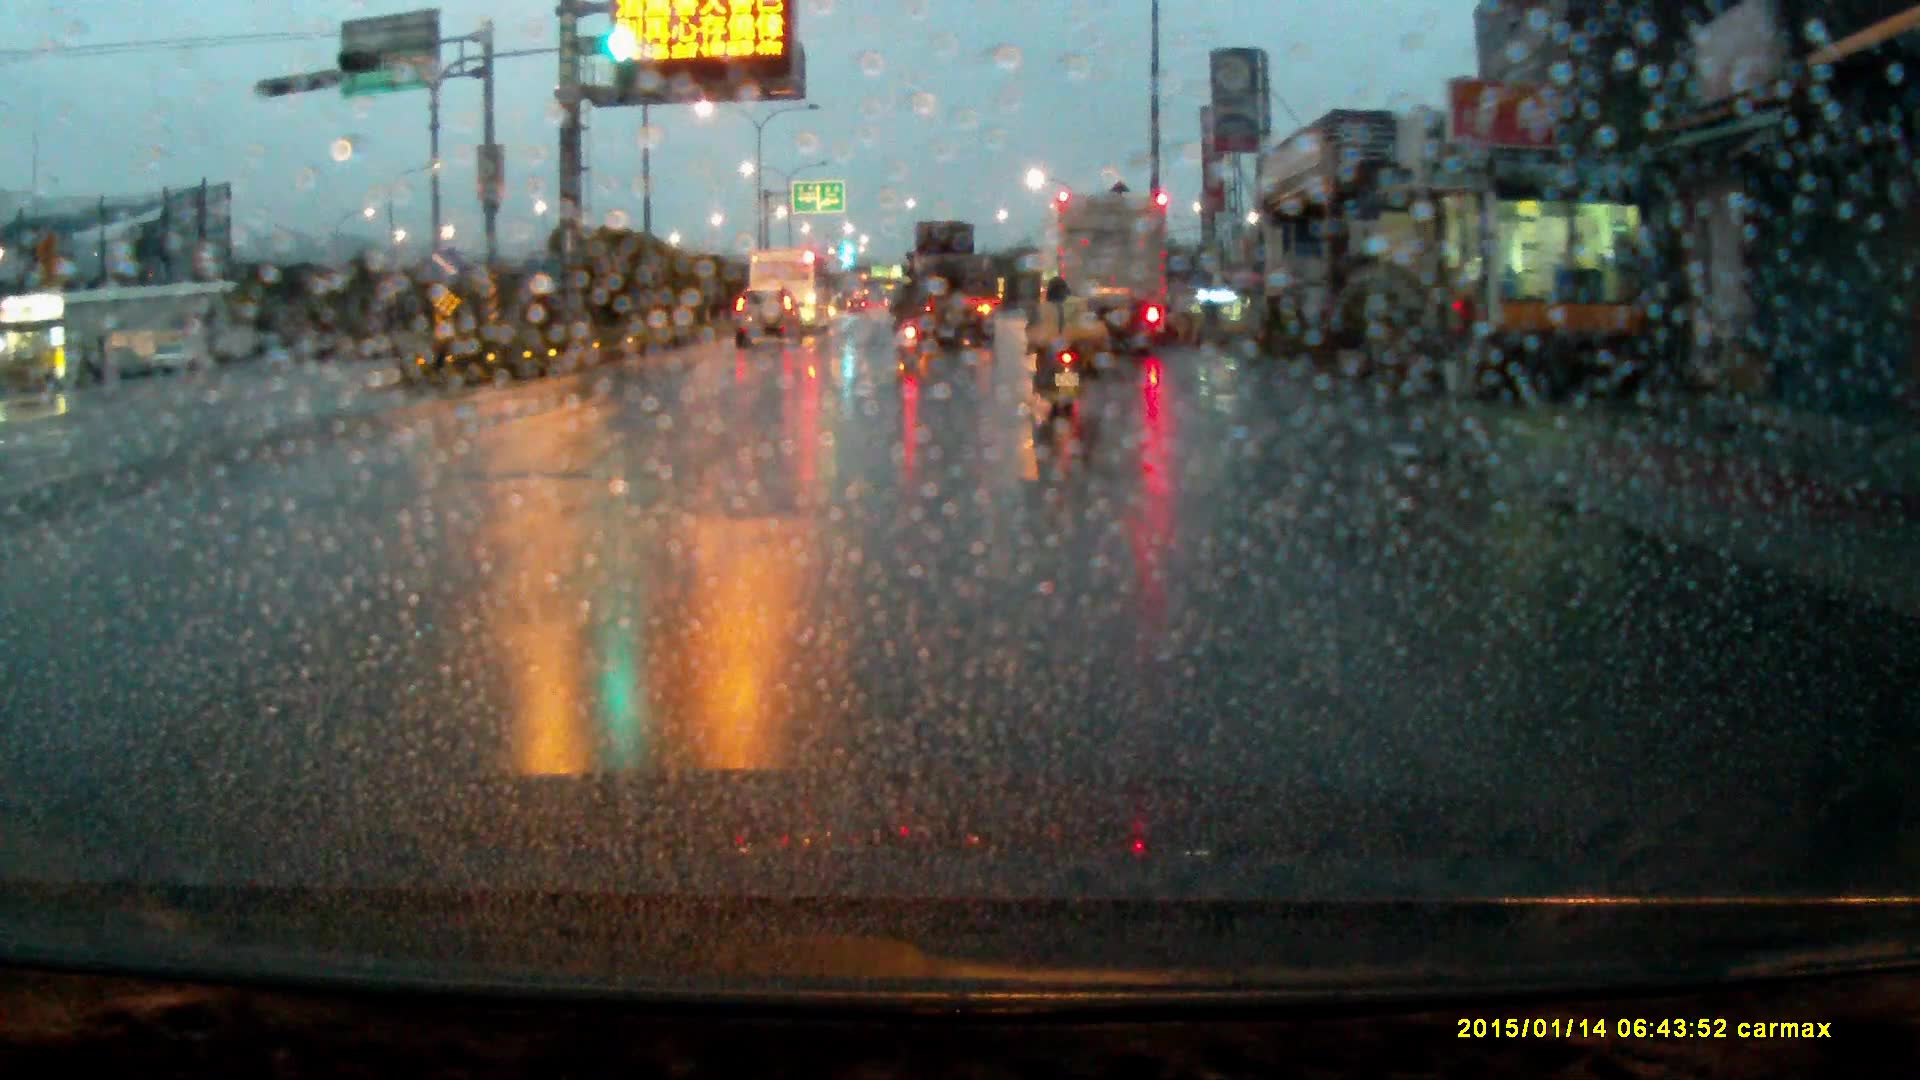rider: (1023, 272, 1102, 422), (892, 270, 931, 362)
vehicle: (1042, 202, 1171, 360), (899, 217, 1000, 352), (761, 245, 836, 328), (734, 285, 806, 351)
